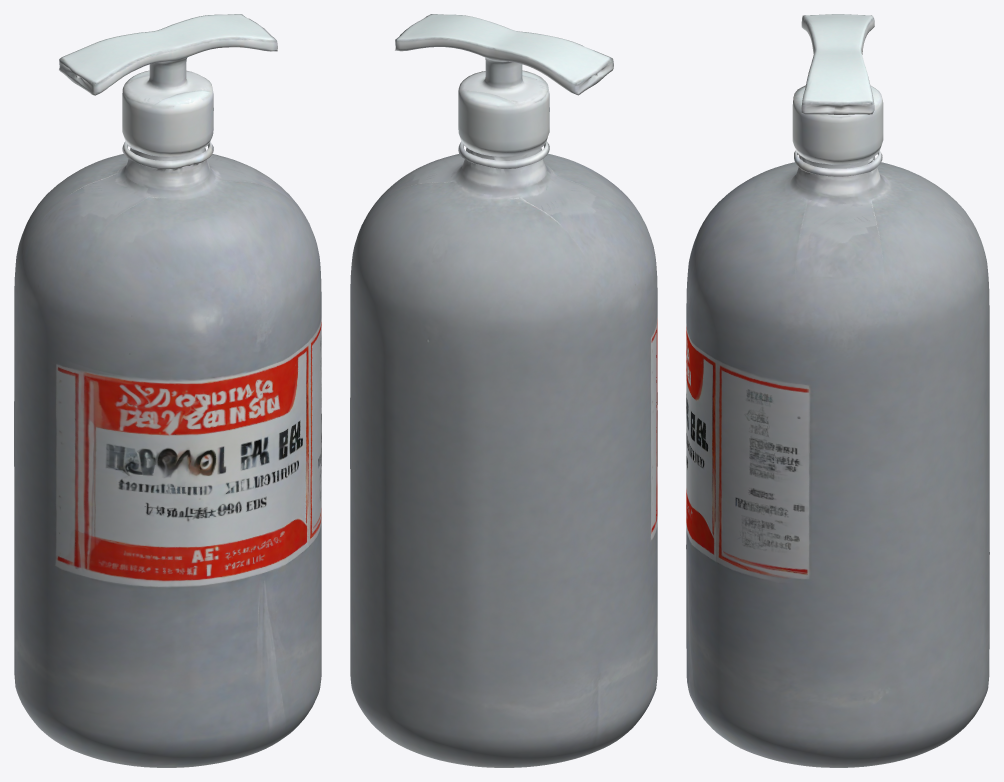
The model's file is Alcohol_Gel_Bottle_0114001746_texture.glb.
3 views of the same model, side by side, from view 1: azimuth 30°, elevation 25°; view 2: azimuth 150°, elevation 25°; view 3: azimuth 270°, elevation 25° (orthographic).
Size of the model in its own units: 0.8154 by 2 by 0.8176.
Materials: 1 (1 with a texture image).
